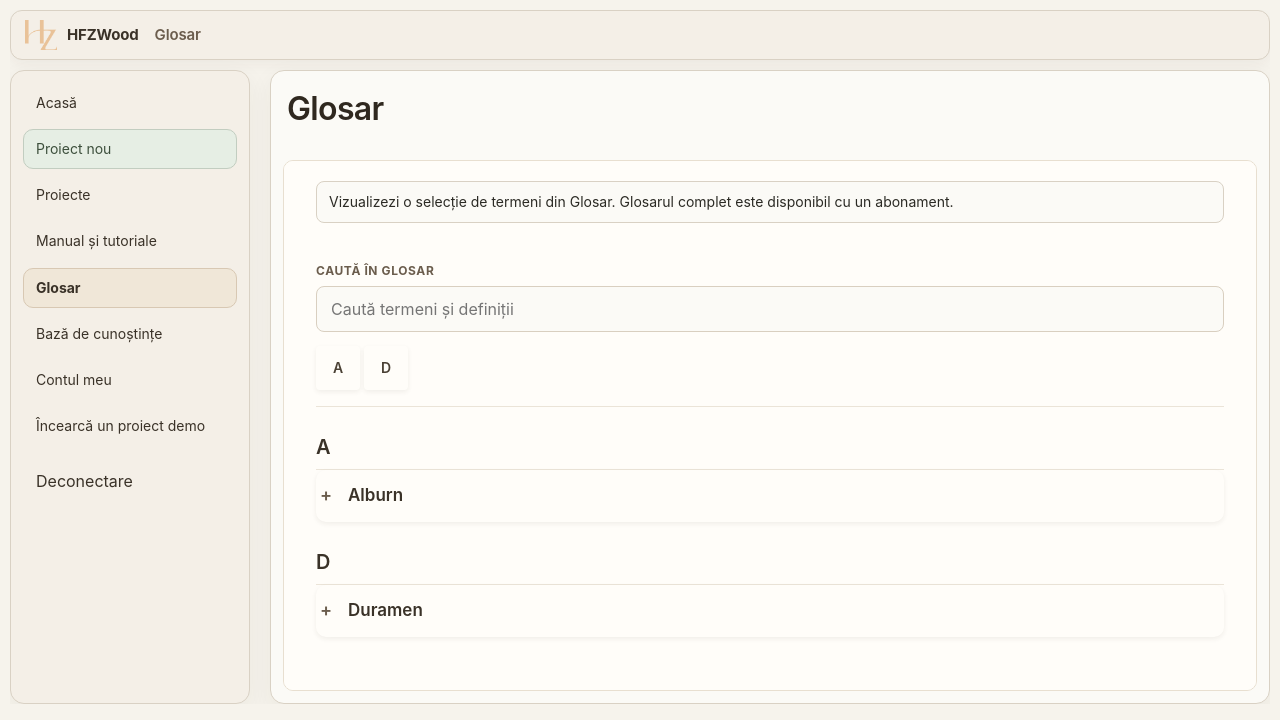
Scenario: GlossaryPage › navigates see-also glossary relations by entry id and preserves locale
Step 1. Click the button "+ Alburn" → (376, 495), box top-left (316, 470), bottom-right (1224, 522)
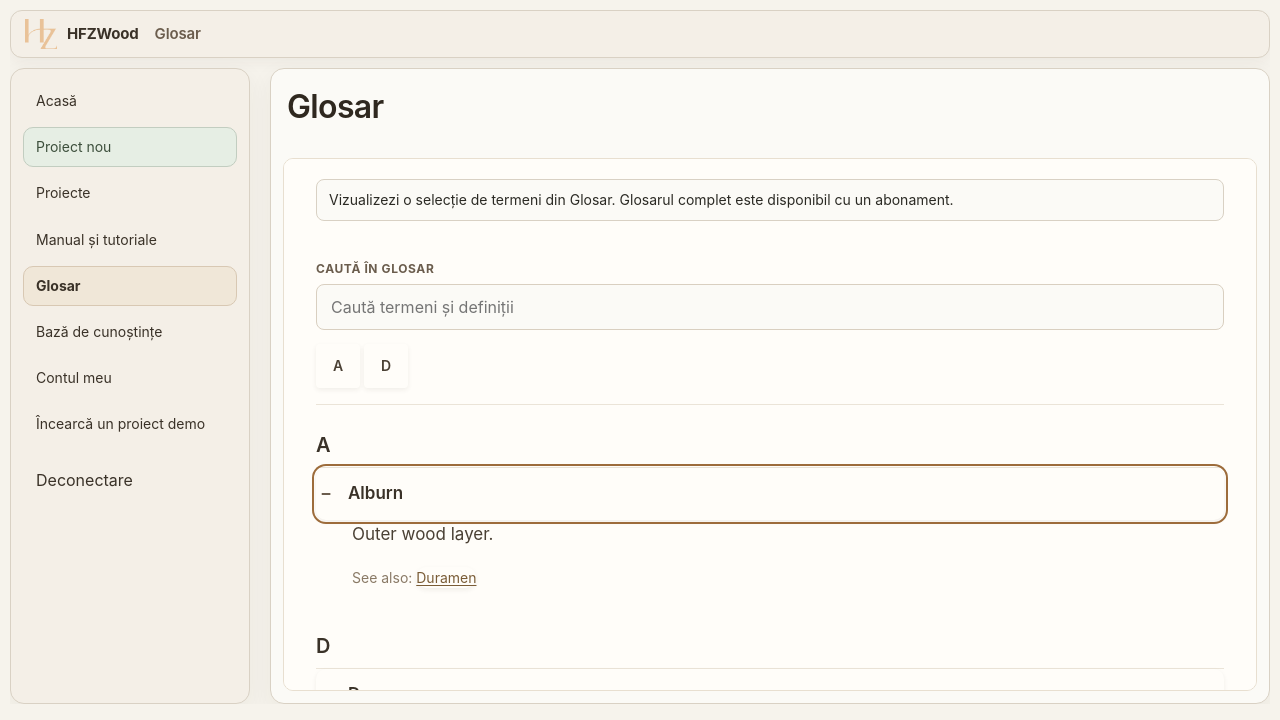
Step 2. Click the button "Duramen" → (446, 578), box top-left (416, 567), bottom-right (476, 588)
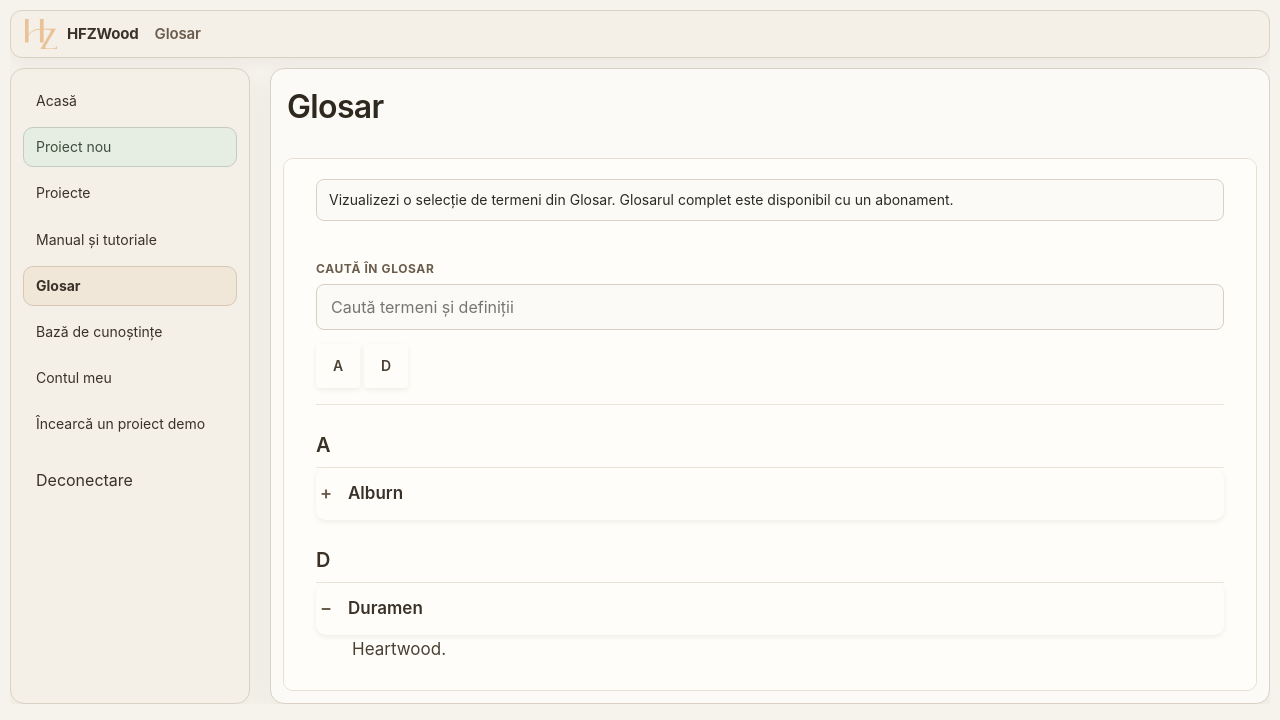
Expected: the element with id "glossary-entry-duramen" is shown, top-left (316, 582), bottom-right (1224, 683)
Expected: the button "− Duramen" is expanded, top-left (316, 583), bottom-right (1224, 635)
